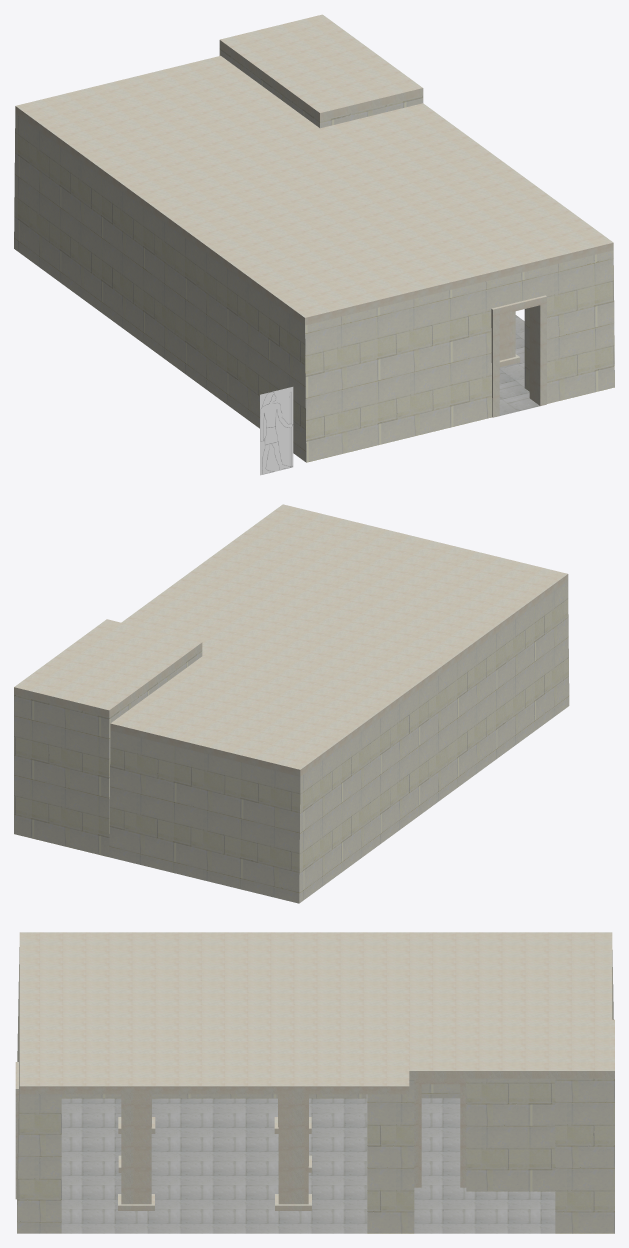
File: Hetep.glb
3 renders of one model, top to bottom at view 1: azimuth 30°, elevation 25°; view 2: azimuth 150°, elevation 25°; view 3: azimuth 270°, elevation 25°, orthographic. The views are drawn at different scales.
Parts seen in each view (by area): view 1: Mesh1 Model, Mesh2 Model; view 2: Mesh1 Model; view 3: Mesh1 Model.
Part boxes in pixels (x1=…): Mesh1 Model: x1=14, y1=14, x2=614, y2=462; Mesh2 Model: x1=260, y1=387, x2=293, y2=475; Mesh1 Model: x1=14, y1=504, x2=569, y2=903; Mesh1 Model: x1=15, y1=932, x2=614, y2=1233.
Size of the model in its own units: 7.39 by 3.15 by 10.55.
Materials: 5 (4 with a texture image).
